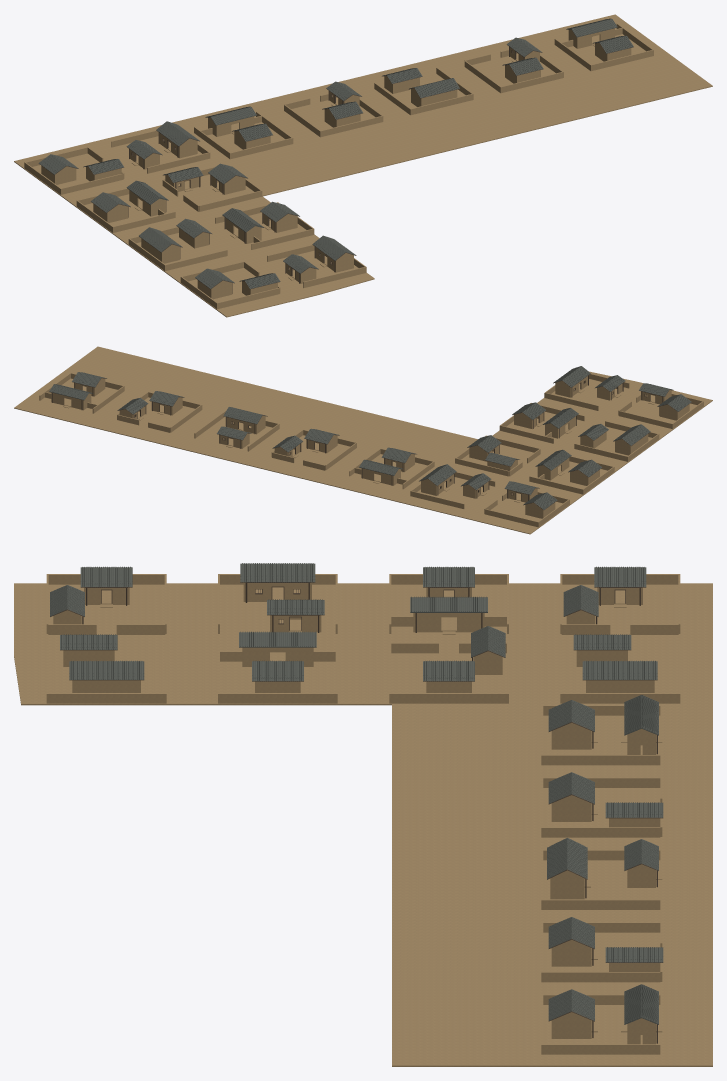
File: life-block-LOD0.glb
The picture shows the model from 3 angles, top to bottom: view 1: azimuth 30°, elevation 25°; view 2: azimuth 150°, elevation 25°; view 3: azimuth 270°, elevation 25°; orthographic projection. The views are drawn at different scales.
Visible parts, largest first — view 1: C_life_block_ground_removable, LIFE-N5__life_C__LY_P01_earth, LIFE-N1__life_C__LY_P01_earth, LIFE-W3__life_C__LY_P01_earth, LIFE-W4__life_A__LY_P01_earth, LIFE-W1__life_A__LY_P01_earth, LIFE-N3__life_B__LY_P01_earth, LIFE-E4__life_B__LY_P01_earth, LIFE-W2__life_B__LY_P01_earth, LIFE-E1__life_B__LY_P01_earth, LIFE-E2__life_C__LY_P01_earth, LIFE-N2__life_A__LY_P01_earth (+15 smaller); view 2: C_life_block_ground_removable, LIFE-W3__life_C__LY_P01_earth, LIFE-W2__life_B__LY_P01_earth, LIFE-W1__life_A__LY_P01_earth, LIFE-W4__life_A__LY_P01_earth, LIFE-N5__life_C__LY_P01_earth, LIFE-E2__life_C__LY_P01_earth, LIFE-N1__life_C__LY_P01_earth, LIFE-E3__life_A__LY_P01_earth, LIFE-N3__life_B__LY_P01_earth, LIFE-E1__life_B__LY_P01_earth, LIFE-E4__life_B__LY_P01_earth (+15 smaller); view 3: C_life_block_ground_removable, LIFE-N4__life_A__LY_P01_earth, LIFE-N2__life_A__LY_P01_earth, LIFE-E2__life_C__LY_P01_earth, LIFE-N1__life_C__LY_P01_earth, LIFE-N5__life_C__LY_P01_earth, LIFE-N3__life_B__LY_P01_earth, LIFE-E3__life_A__LY_P01_earth, LIFE-W3__life_C__LY_P01_earth, LIFE-W4__life_A__LY_P01_earth, LIFE-W1__life_A__LY_P01_earth, LIFE-E1__life_B__LY_P01_earth (+15 smaller).
Boxes of the visible parts, x1,y1,x2,y2 form: C_life_block_ground_removable: (14,14,712,317); LIFE-N5__life_C__LY_P01_earth: (554,23,653,71); LIFE-N1__life_C__LY_P01_earth: (194,111,293,159); LIFE-W3__life_C__LY_P01_earth: (76,188,175,232); LIFE-W4__life_A__LY_P01_earth: (24,147,124,194); LIFE-W1__life_A__LY_P01_earth: (180,261,280,309); LIFE-N3__life_B__LY_P01_earth: (374,67,473,115); LIFE-E4__life_B__LY_P01_earth: (111,130,210,173); LIFE-W2__life_B__LY_P01_earth: (128,226,227,270); LIFE-E1__life_B__LY_P01_earth: (267,244,366,287); LIFE-E2__life_C__LY_P01_earth: (215,202,314,249); LIFE-N2__life_A__LY_P01_earth: (284,91,383,137); C_life_block_ground_removable: (14,346,712,534); LIFE-W3__life_C__LY_P01_earth: (529,456,614,494); LIFE-W2__life_B__LY_P01_earth: (574,421,659,461); LIFE-W1__life_A__LY_P01_earth: (618,390,703,429); LIFE-W4__life_A__LY_P01_earth: (484,488,569,527); LIFE-N5__life_C__LY_P01_earth: (39,373,124,413); LIFE-E2__life_C__LY_P01_earth: (499,403,584,443); LIFE-N1__life_C__LY_P01_earth: (349,448,434,489); LIFE-E3__life_A__LY_P01_earth: (455,435,540,476); LIFE-N3__life_B__LY_P01_earth: (194,410,279,451); LIFE-E1__life_B__LY_P01_earth: (544,374,629,410); LIFE-E4__life_B__LY_P01_earth: (410,472,495,508); C_life_block_ground_removable: (14,583,712,1066); LIFE-N4__life_A__LY_P01_earth: (541,922,662,982); LIFE-N2__life_A__LY_P01_earth: (541,777,662,837); LIFE-E2__life_C__LY_P01_earth: (218,643,337,703); LIFE-N1__life_C__LY_P01_earth: (541,705,662,765); LIFE-N5__life_C__LY_P01_earth: (541,994,662,1054); LIFE-N3__life_B__LY_P01_earth: (541,849,662,909); LIFE-E3__life_A__LY_P01_earth: (389,642,508,703); LIFE-W3__life_C__LY_P01_earth: (389,574,508,634); LIFE-W4__life_A__LY_P01_earth: (560,574,680,634); LIFE-W1__life_A__LY_P01_earth: (46,574,166,634); LIFE-E1__life_B__LY_P01_earth: (46,643,166,703).
Bounding box in the file's own units: 160 × 5.11 × 98.
Materials: 3 (3 with a texture image).
